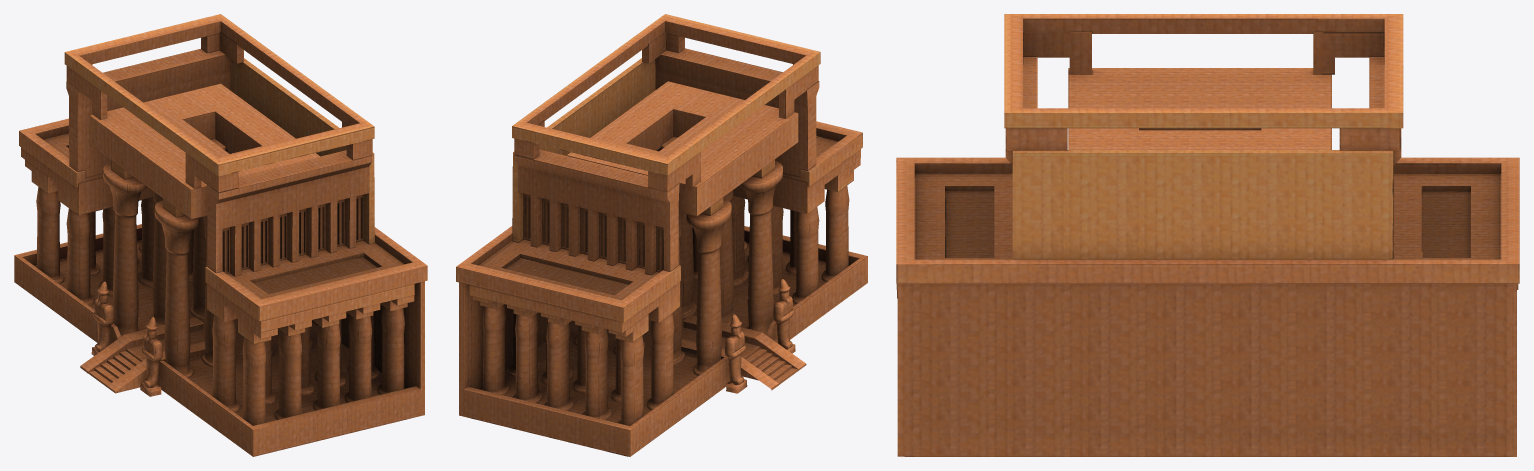
File: temple_blendddddd.fbx
3 views of the same model, side by side, from view 1: azimuth 30°, elevation 25°; view 2: azimuth 150°, elevation 25°; view 3: azimuth 270°, elevation 25° (orthographic). The views are drawn at different scales.
Visible parts, largest first — view 1: Cube; view 2: Cube; view 3: Cube.
Part boxes in pixels (x1,y1,x2,y2): Cube: (14, 14, 427, 456); Cube: (456, 14, 867, 456); Cube: (896, 14, 1519, 456).
Bounding box in the file's own units: 693 × 816 × 1362.
1 material, 1 textured.
